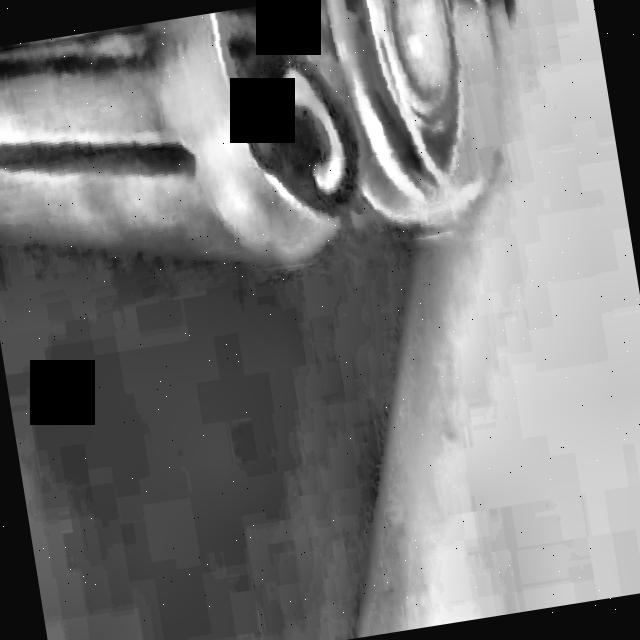bottle: (0, 0, 502, 270)
